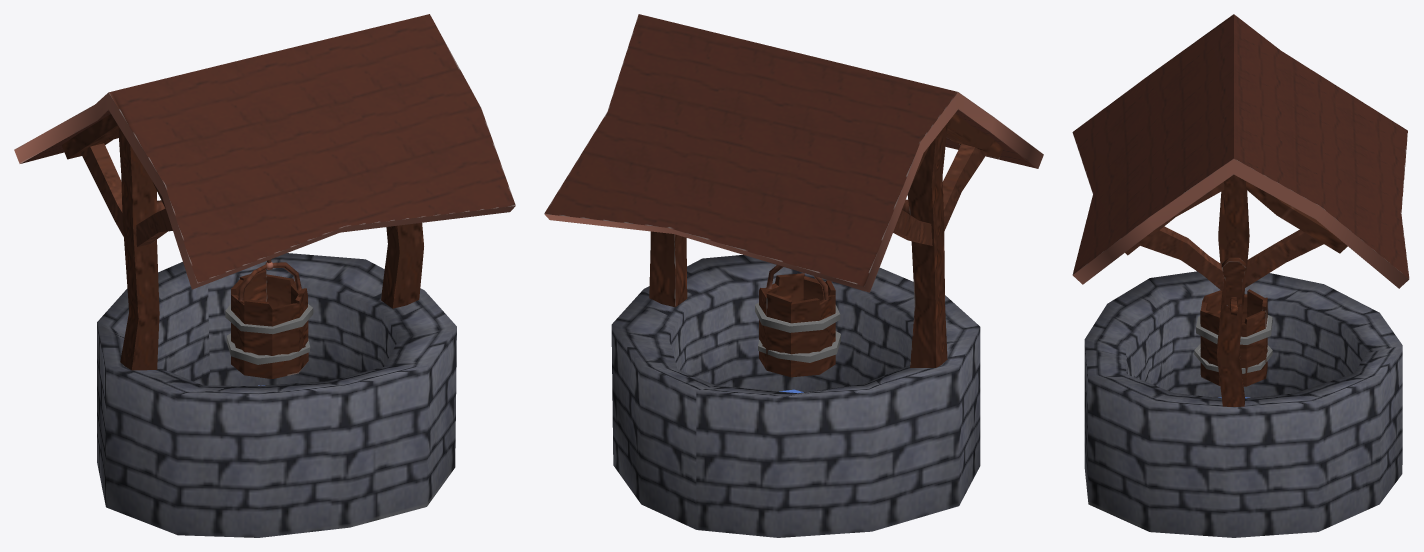
Rendered from Poco.glb.
The picture shows the model from 3 angles, left to right: view 1: azimuth 30°, elevation 25°; view 2: azimuth 150°, elevation 25°; view 3: azimuth 270°, elevation 25°; orthographic projection. The views are drawn at different scales.
Parts seen in each view (by area): view 1: Poco; view 2: Poco; view 3: Poco.
Part boxes in pixels (x1,y1,x2,y2): Poco: (14, 14, 515, 537); Poco: (544, 14, 1043, 537); Poco: (1072, 14, 1409, 537).
Bounding box in the file's own units: 2.09 × 2.32 × 1.85.
1 material, 1 textured.
